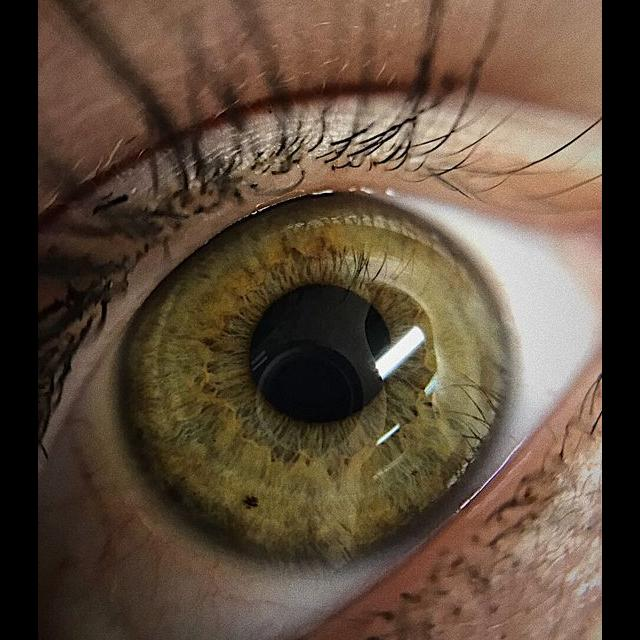eye: (54, 181, 585, 640)
iris: (122, 189, 521, 574)
